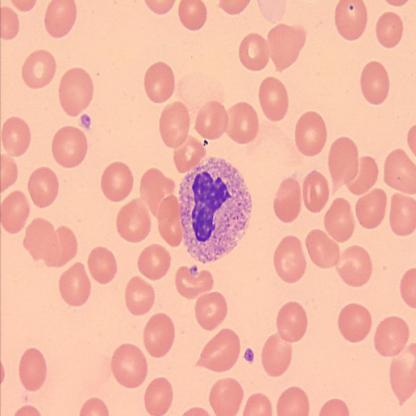Segmented neutrophil: (177, 153, 255, 267)
